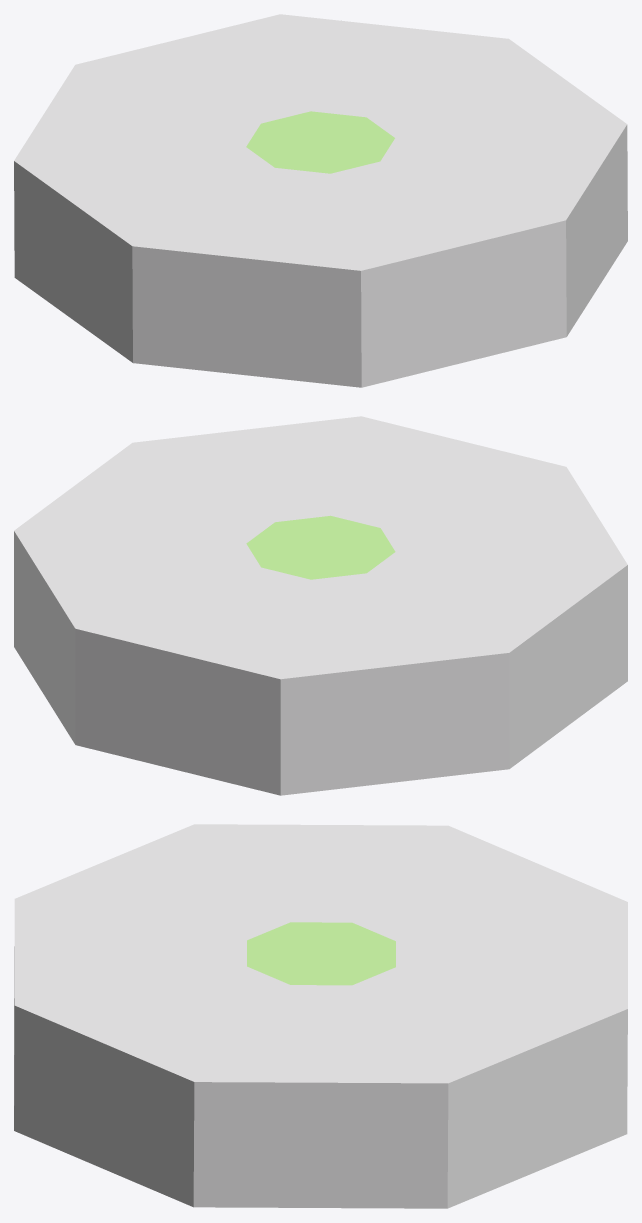
File: leek03.obj
The picture shows the model from 3 angles, top to bottom: view 1: azimuth 30°, elevation 25°; view 2: azimuth 150°, elevation 25°; view 3: azimuth 270°, elevation 25°; orthographic projection. The views are drawn at different scales.
Parts seen in each view (by area): view 1: Cylinder.001_Cylinder; view 2: Cylinder.001_Cylinder; view 3: Cylinder.001_Cylinder.
Boxes of the visible parts, box(x1,y1,x2,y2) form: Cylinder.001_Cylinder: box(14, 14, 627, 387); Cylinder.001_Cylinder: box(14, 416, 627, 795); Cylinder.001_Cylinder: box(14, 824, 627, 1208).
Bounding box in the file's own units: 0.0335 × 0.00777 × 0.0335.
1 material, 1 textured.
